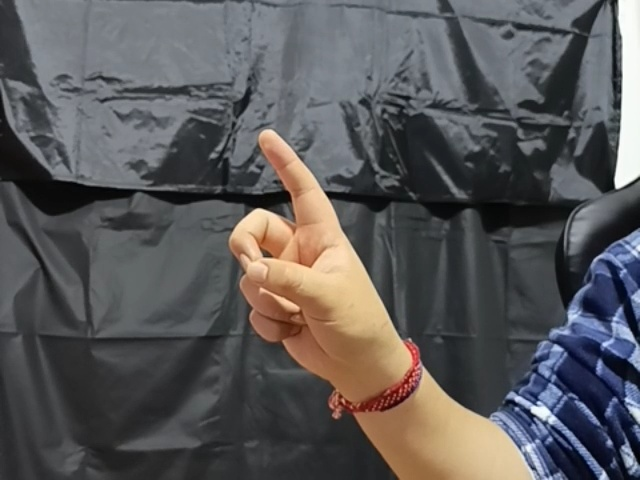D: (226, 127, 399, 376)
